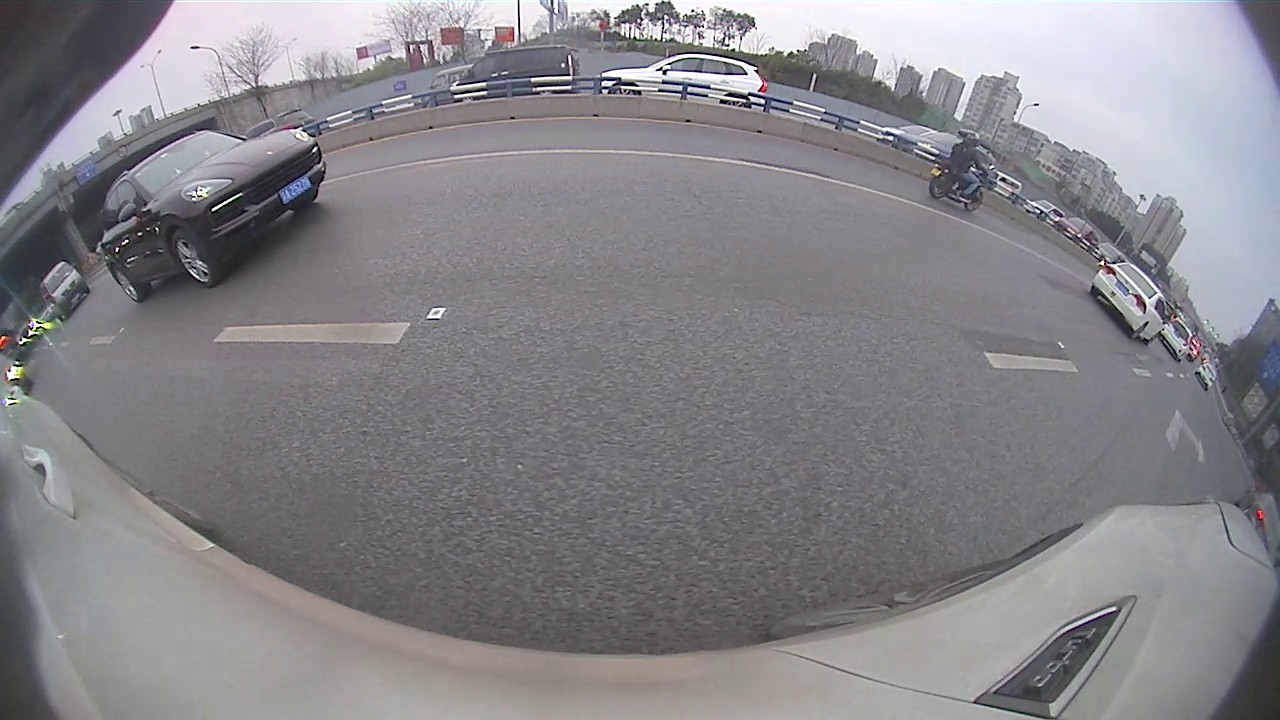car: (97, 127, 329, 303), (596, 51, 769, 98), (1091, 261, 1170, 345), (447, 42, 583, 86), (38, 262, 91, 321), (1160, 317, 1195, 362)
front: (175, 231, 223, 290)
rear: (109, 262, 143, 303)
rider: (925, 125, 996, 213)
